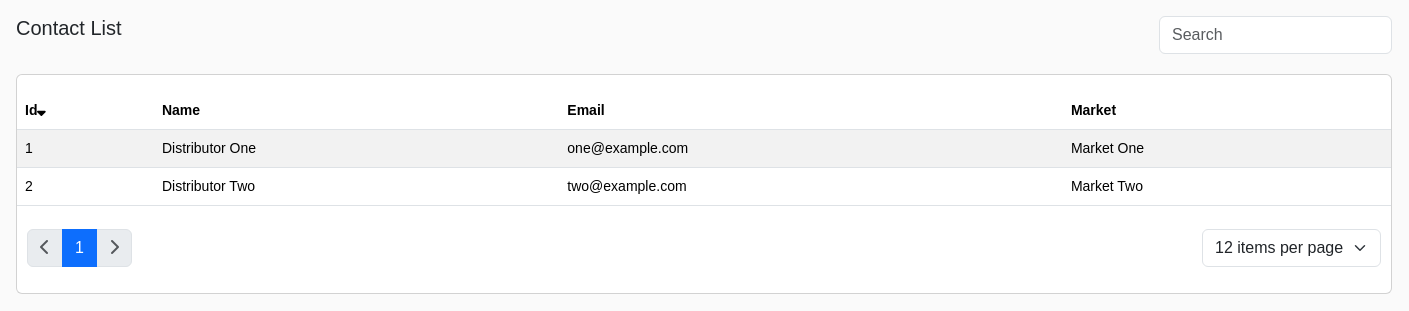
Test: ContactList Component › filters contact list based on search input
The width and height of the screenshot is (1409, 311).
Check: the text "Distributor One" is shown, box [154,130,559,168]
Check: the text "Distributor Two" is shown, box [154,168,559,206]
Step 1. Type "One" into the field with placeholder "Search" → (1276, 35), box [1159,16,1392,54]
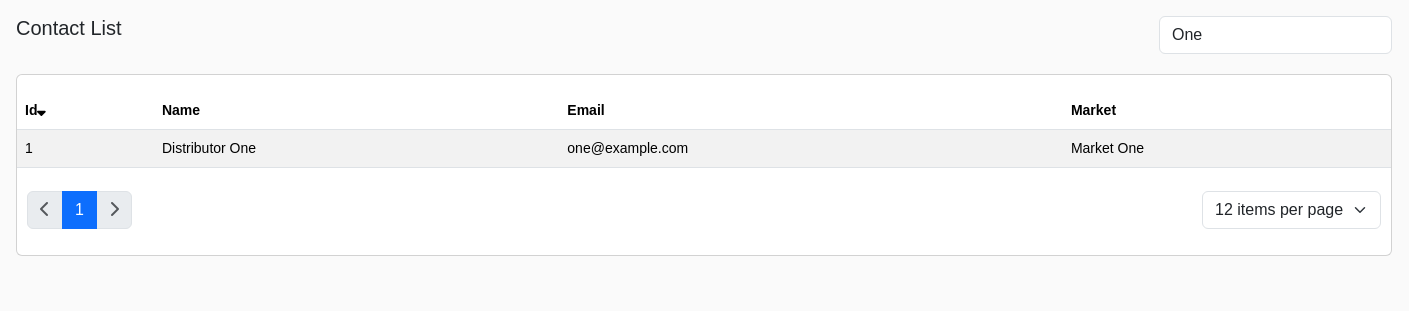
Check: the text "Distributor One" is shown, box [154,130,559,168]
Check: the text "Distributor Two" is gone
